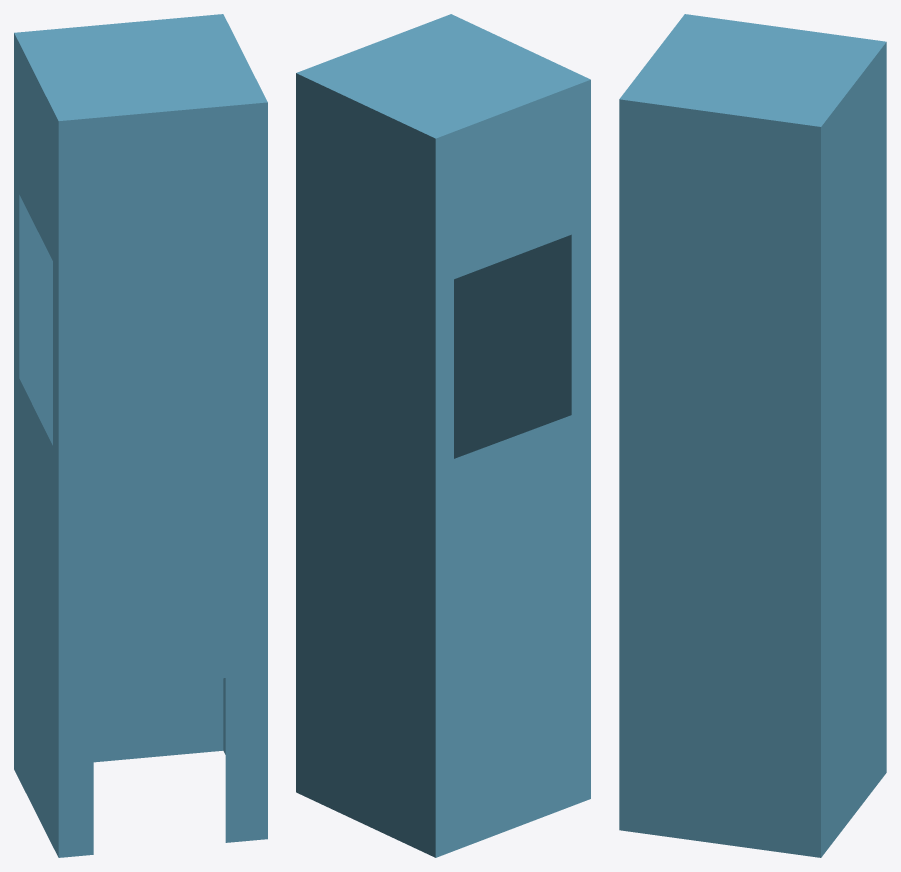
The model's file is Close_Elevator_Wall.fbx.
3 views of the same model, side by side, from view 1: azimuth 30°, elevation 25°; view 2: azimuth 150°, elevation 25°; view 3: azimuth 270°, elevation 25° (orthographic). The views are drawn at different scales.
Parts seen in each view (by area): view 1: Close_Elevator_Wall_low; view 2: Close_Elevator_Wall_low; view 3: Close_Elevator_Wall_low.
Part boxes in pixels (x1,y1,x2,y2): Close_Elevator_Wall_low: (14,14,267,857); Close_Elevator_Wall_low: (296,14,590,857); Close_Elevator_Wall_low: (619,14,886,857).
Bounding box in the file's own units: 497 × 1500 × 497.
